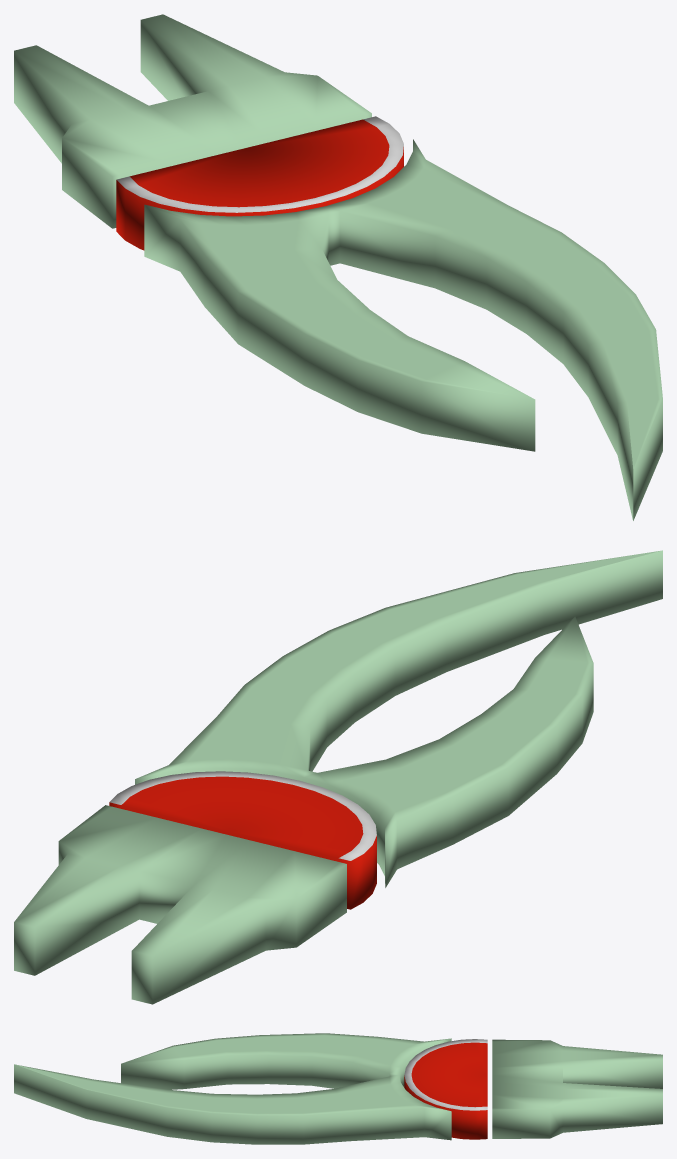
File: bouy2.fbx
3 renders of one model, top to bottom at view 1: azimuth 30°, elevation 25°; view 2: azimuth 150°, elevation 25°; view 3: azimuth 270°, elevation 25°, orthographic. The views are drawn at different scales.
Parts seen in each view (by area): view 1: buoy2; view 2: buoy2; view 3: buoy2.
Part boxes in pixels (x1,y1,x2,y2): buoy2: (14,14,662,520); buoy2: (14,550,662,1004); buoy2: (14,1033,662,1144).
Size of the model in its own units: 0.8289 by 0.1358 by 2.75.
